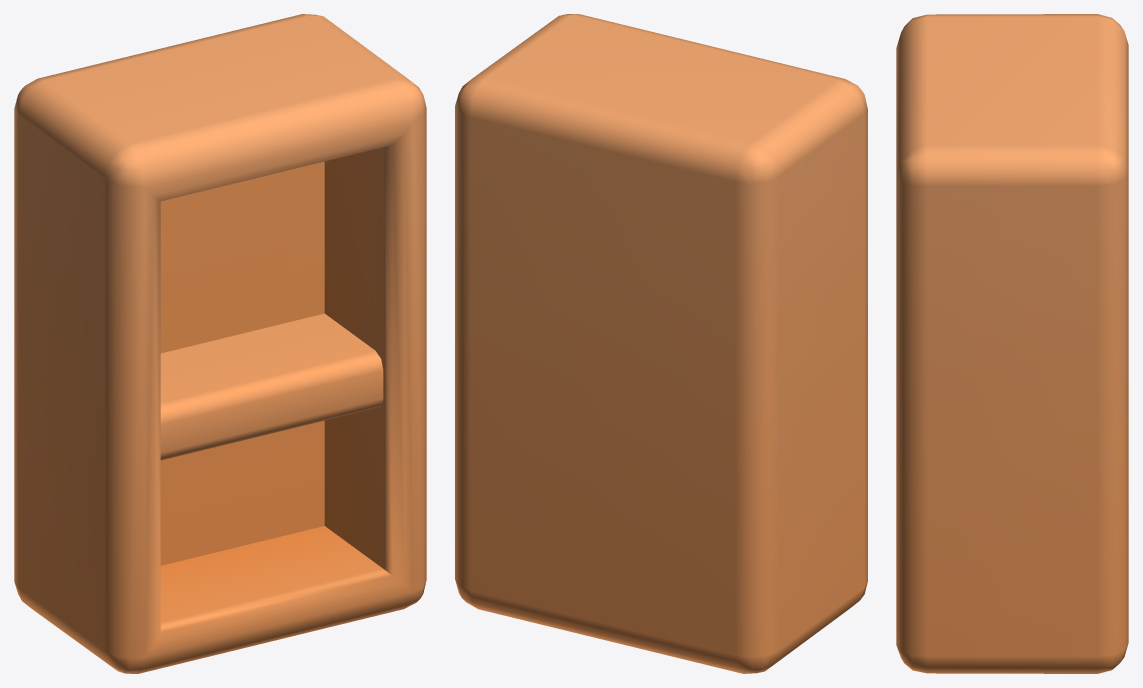
The model's file is Kitchen_Shelf_001.glb.
3 renders of one model, left to right at view 1: azimuth 30°, elevation 25°; view 2: azimuth 150°, elevation 25°; view 3: azimuth 270°, elevation 25°, orthographic.
Visible parts, largest first — view 1: Kitchen_Shelf_001; view 2: Kitchen_Shelf_001; view 3: Kitchen_Shelf_001.
Part boxes in pixels (box(x1,y1,x2,y2)): Kitchen_Shelf_001: box(14, 14, 426, 673); Kitchen_Shelf_001: box(455, 14, 867, 673); Kitchen_Shelf_001: box(896, 14, 1128, 673).
Size of the model in its own units: 0.5026 by 0.7971 by 0.3188.
1 material, 1 textured.
